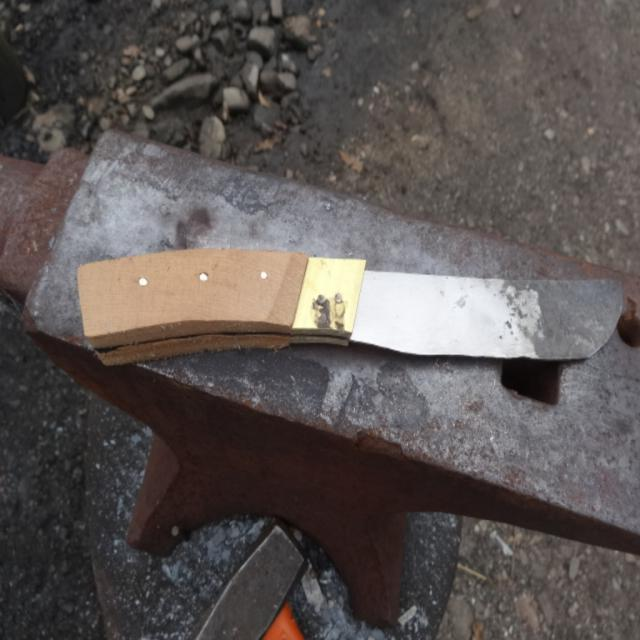Knife: (78, 249, 622, 365)
